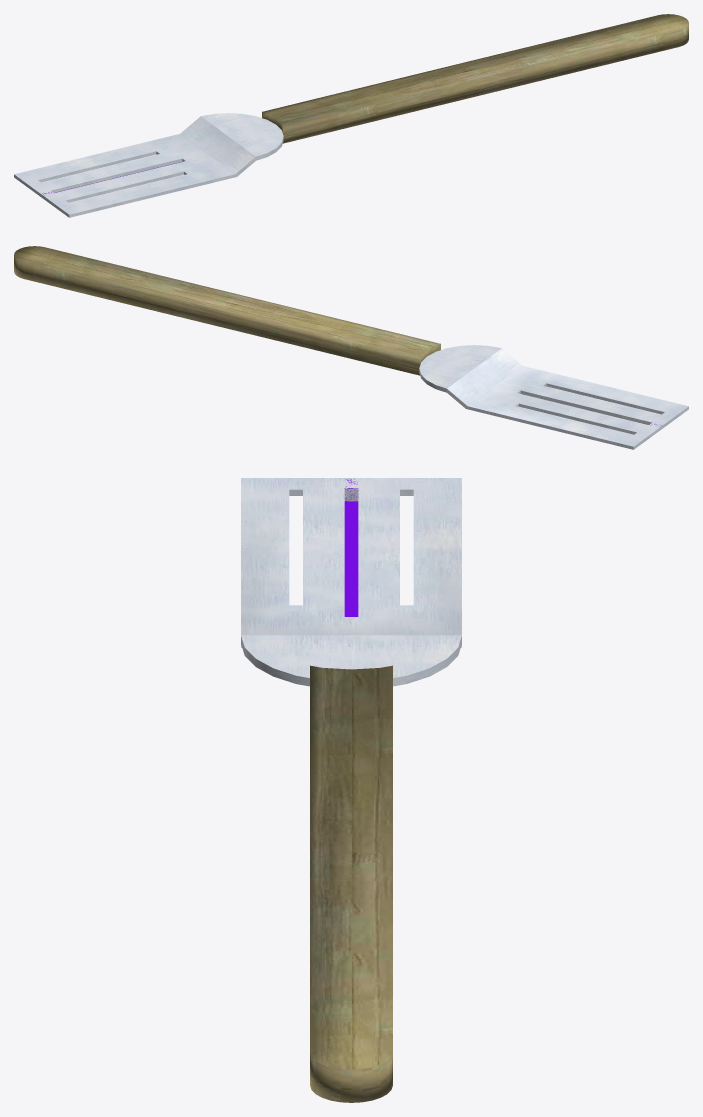
The model's file is turner_02_origin.dae.
The picture shows the model from 3 angles, top to bottom: view 1: azimuth 30°, elevation 25°; view 2: azimuth 150°, elevation 25°; view 3: azimuth 270°, elevation 25°; orthographic projection. The views are drawn at different scales.
Parts seen in each view (by area): view 1: Untitled (×4); view 2: Untitled (×4); view 3: Untitled (×3).
Part boxes in pixels (x1,y1,x2,y2): Untitled (×4): (14,14,688,217); Untitled (×4): (14,246,688,449); Untitled (×3): (241,478,461,1102).
Size of the model in its own units: 13.46 by 2 by 0.5.
3 materials, 2 textured.
